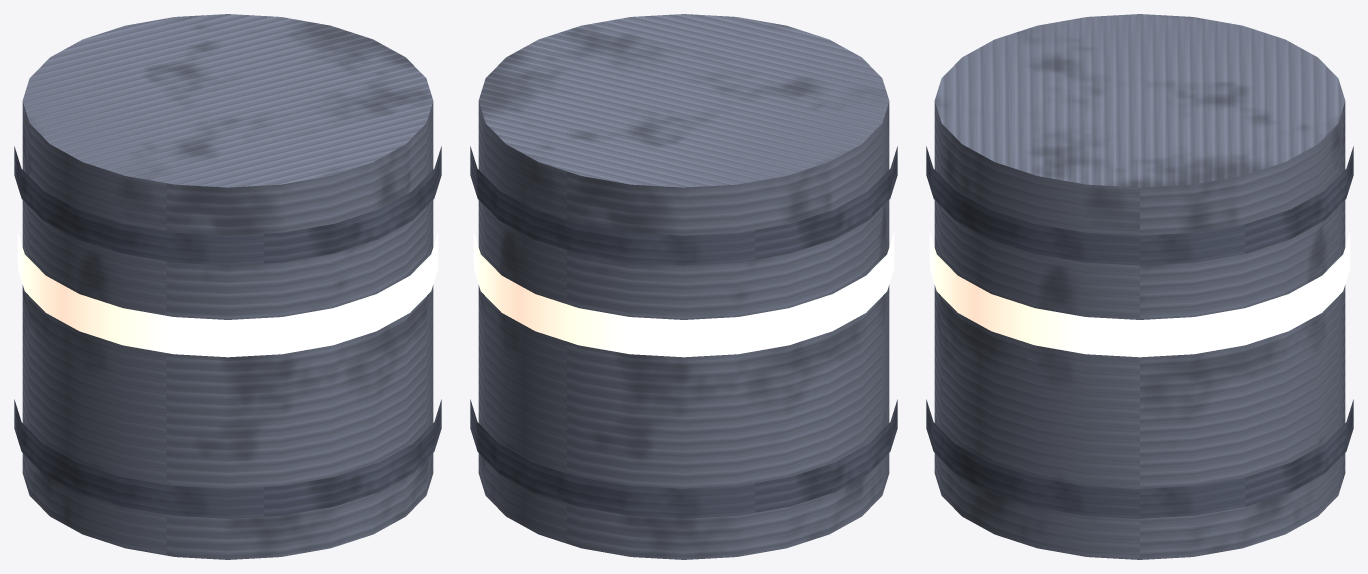
File: barrel.glb
3 views of the same model, side by side, from view 1: azimuth 30°, elevation 25°; view 2: azimuth 150°, elevation 25°; view 3: azimuth 270°, elevation 25° (orthographic).
Parts seen in each view (by area): view 1: barrel; view 2: barrel; view 3: barrel.
Boxes of the visible parts, x1,y1,x2,y2 form: barrel: [14, 14, 441, 559]; barrel: [470, 14, 897, 559]; barrel: [926, 14, 1353, 559].
Size of the model in its own units: 1.04 by 1 by 1.04.
3 materials, 2 textured.
